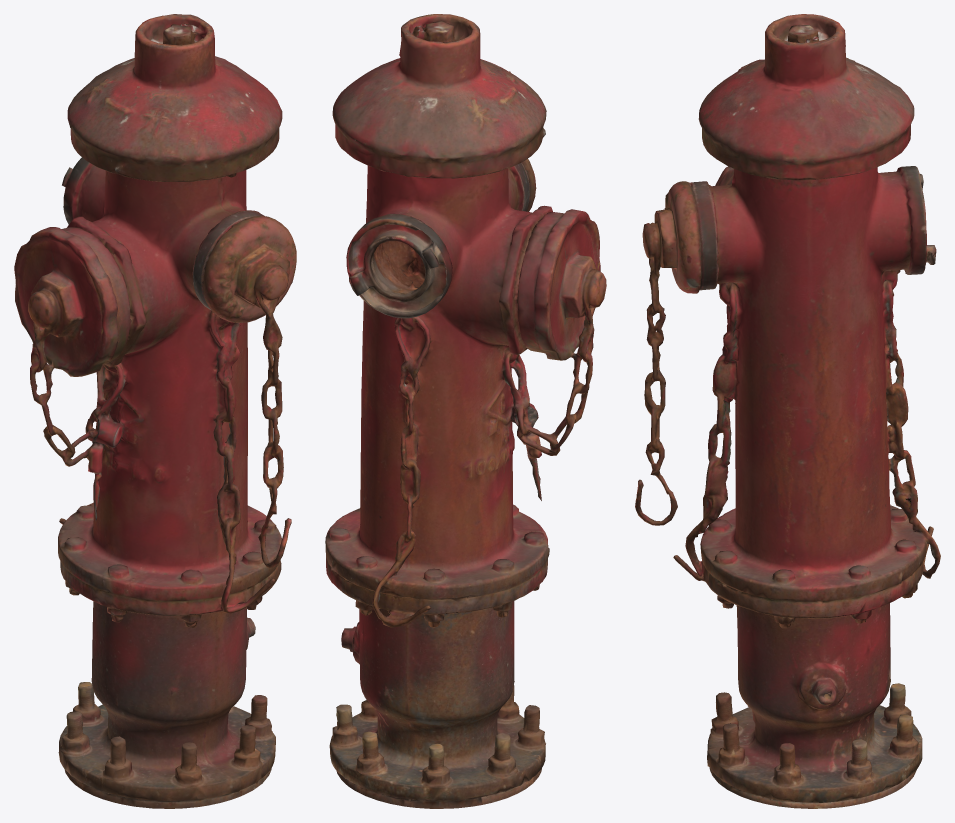
File: PX_Fire_Hydrant_01_LOD2.fbx
3 views of the same model, side by side, from view 1: azimuth 30°, elevation 25°; view 2: azimuth 150°, elevation 25°; view 3: azimuth 270°, elevation 25° (orthographic).
Visible parts, largest first — view 1: PX_Fire_Hydrant_01_LOD2; view 2: PX_Fire_Hydrant_01_LOD2; view 3: PX_Fire_Hydrant_01_LOD2.
Part boxes in pixels (box(x1,y1,x2,y2)): PX_Fire_Hydrant_01_LOD2: box(14, 14, 296, 808); PX_Fire_Hydrant_01_LOD2: box(325, 14, 606, 808); PX_Fire_Hydrant_01_LOD2: box(635, 14, 940, 808).
Bounding box in the file's own units: 27.46 × 77.9 × 29.27.
